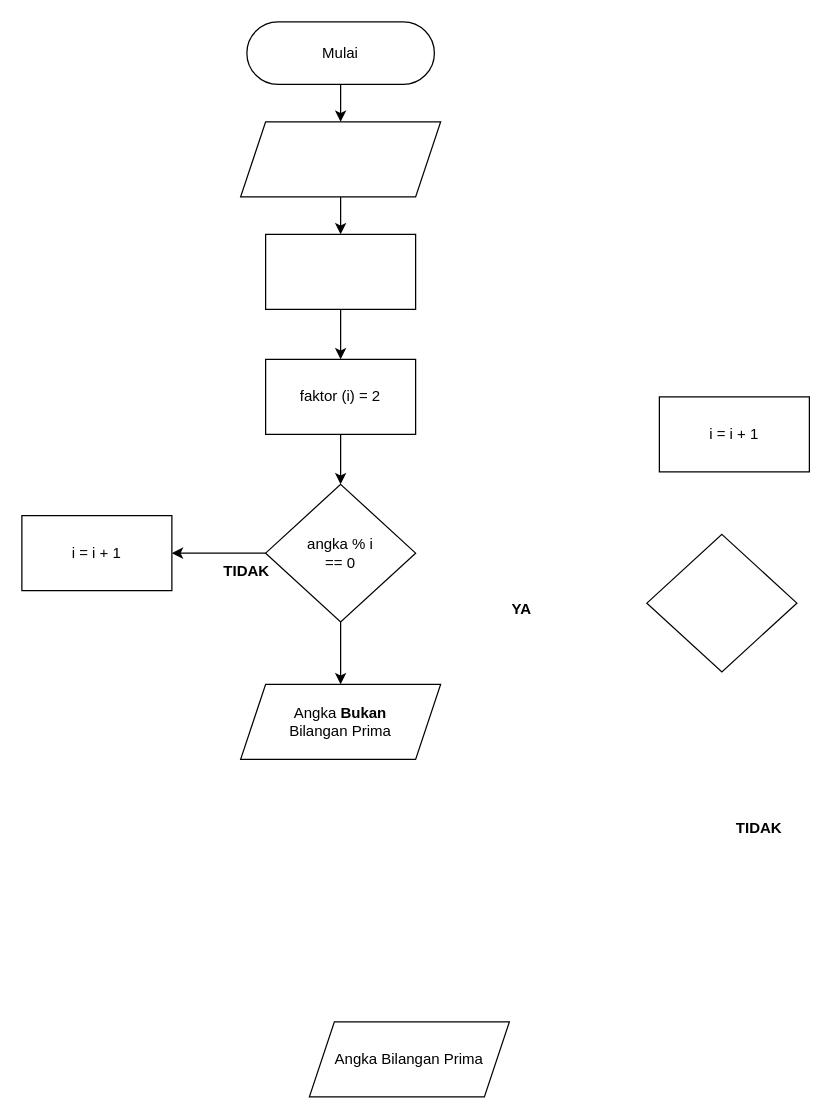
Some shapes in this 831 by 1119 pixel diagram are drawn without their labels. Each missing label, with the centre of its shape:
akar kuadrat dari angka (akar): (x=340, y=271)
i <= akar: (x=721, y=602)
Input angka yang lebih besar dari 1 (angka > 1): (x=340, y=159)
